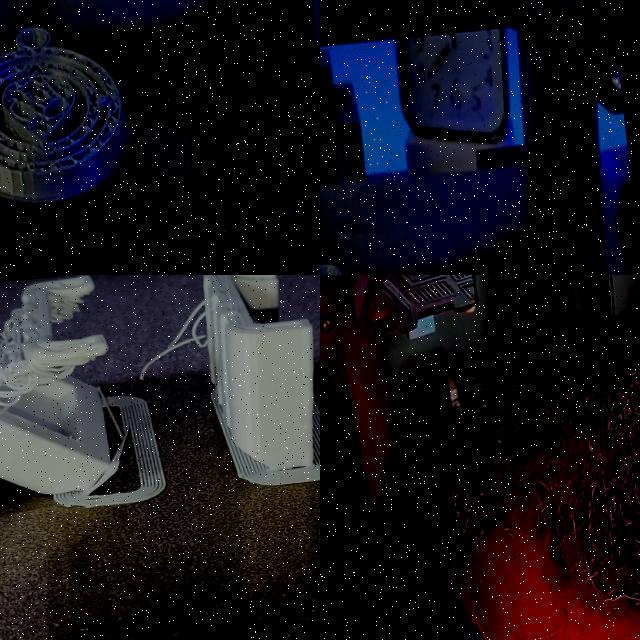spaghetti: (406, 275, 640, 640), (0, 289, 101, 410), (126, 292, 221, 388)
